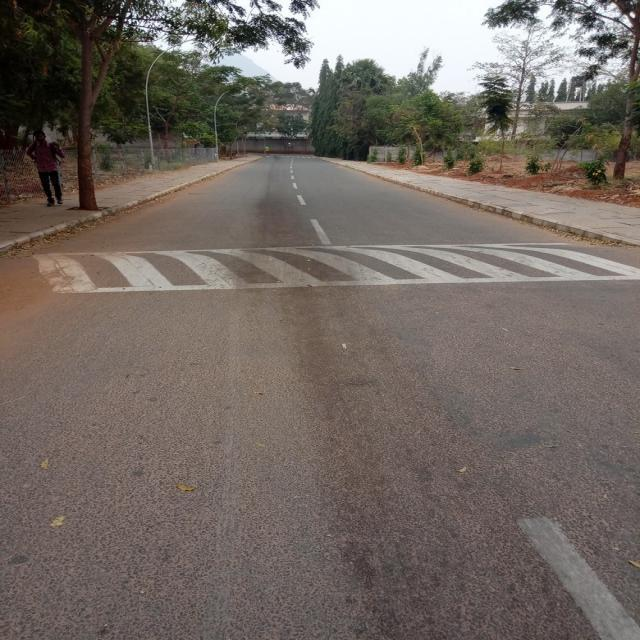speedbreaker: (29, 234, 636, 294)
